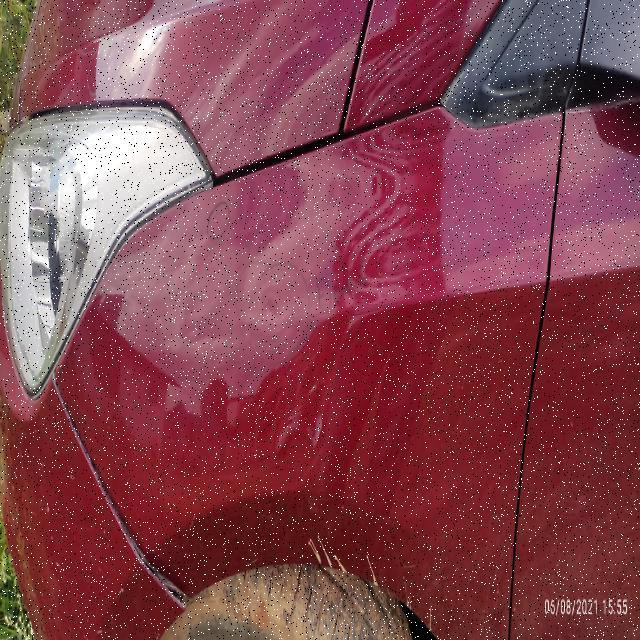fender-dent: (120, 165, 542, 639)
